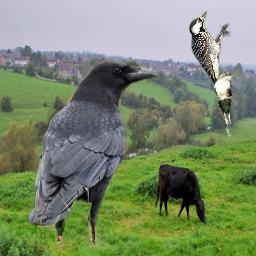Crow: (25, 60, 159, 249)
Cuckoo: (214, 72, 235, 139)
Woodpecker: (189, 11, 231, 103)
